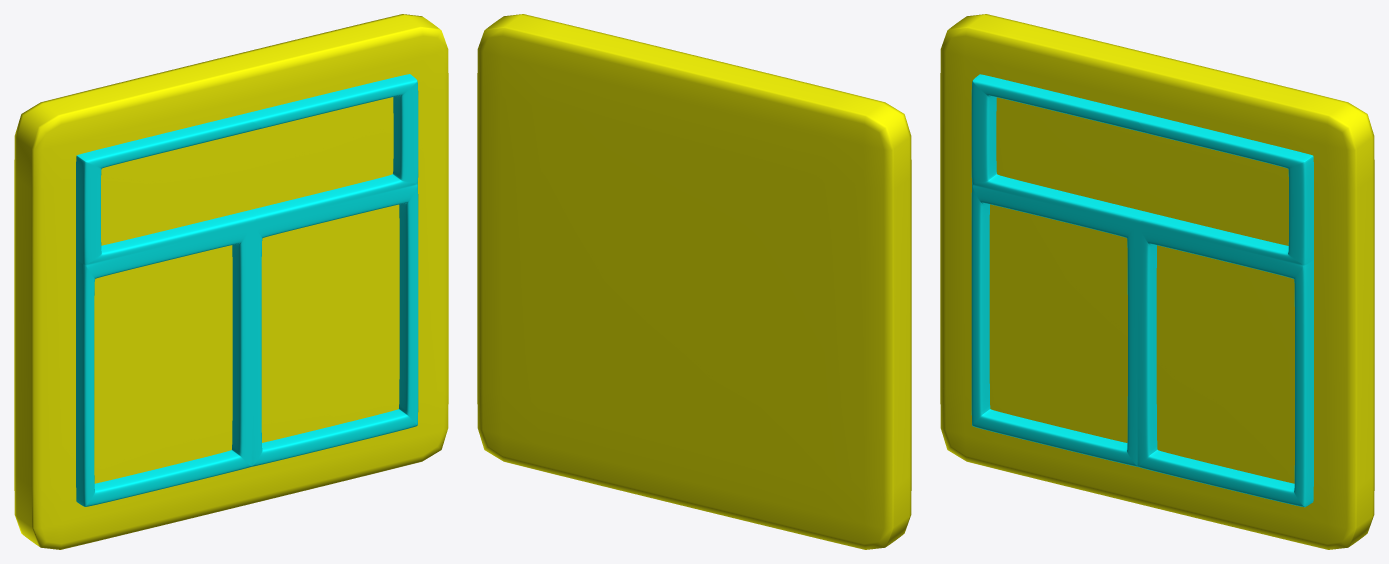
3 renders of one model, left to right at view 1: azimuth 30°, elevation 25°; view 2: azimuth 150°, elevation 25°; view 3: azimuth 330°, elevation 25°, orthographic.
Parts seen in each view (by area): view 1: polySurface989; view 2: polySurface989; view 3: polySurface989.
Part boxes in pixels (x1,y1,x2,y2): polySurface989: (14,14,448,549); polySurface989: (477,14,911,549); polySurface989: (940,14,1374,549).
Bounding box in the file's own units: 0.9994 × 0.9994 × 0.1344.
